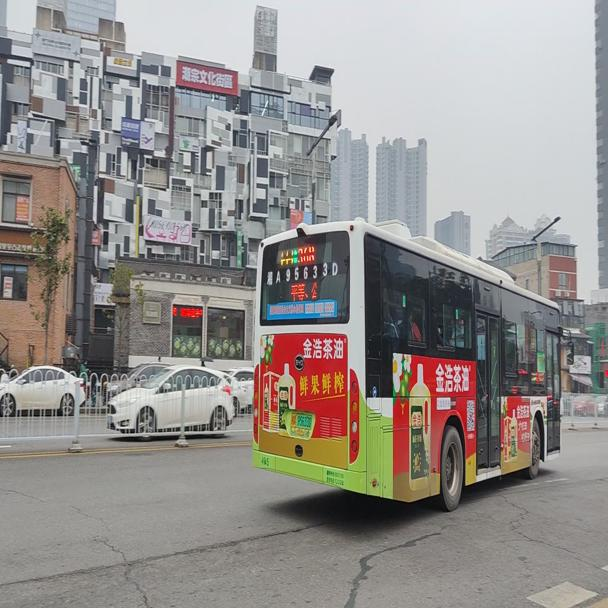bus: (253, 211, 574, 512)
screen: (298, 245, 315, 262)
